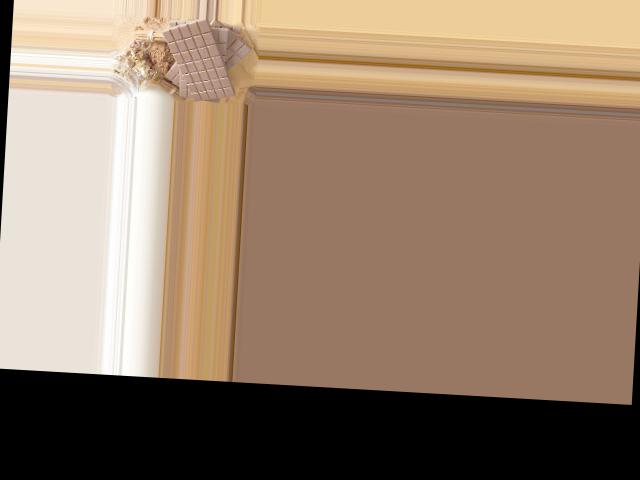chocolate: (154, 16, 240, 100)
